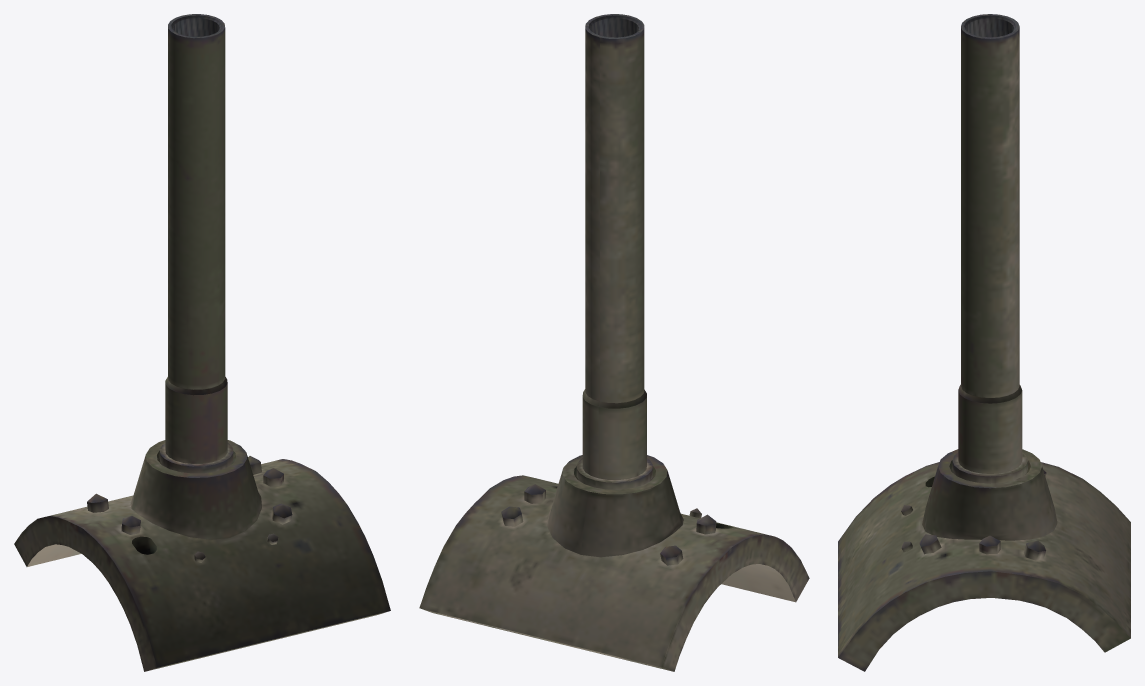
File: Gun_03.glb
3 views of the same model, side by side, from view 1: azimuth 30°, elevation 25°; view 2: azimuth 150°, elevation 25°; view 3: azimuth 270°, elevation 25° (orthographic). The views are drawn at different scales.
Visible parts, largest first — view 1: set_0_group_0; view 2: set_0_group_0; view 3: set_0_group_0.
Boxes of the visible parts, x1,y1,x2,y2 form: set_0_group_0: (14, 14, 390, 671); set_0_group_0: (419, 14, 809, 671); set_0_group_0: (838, 14, 1130, 671).
Size of the model in its own units: 0.7098 by 1.66 by 0.7537.
Materials: 1 (1 with a texture image).
